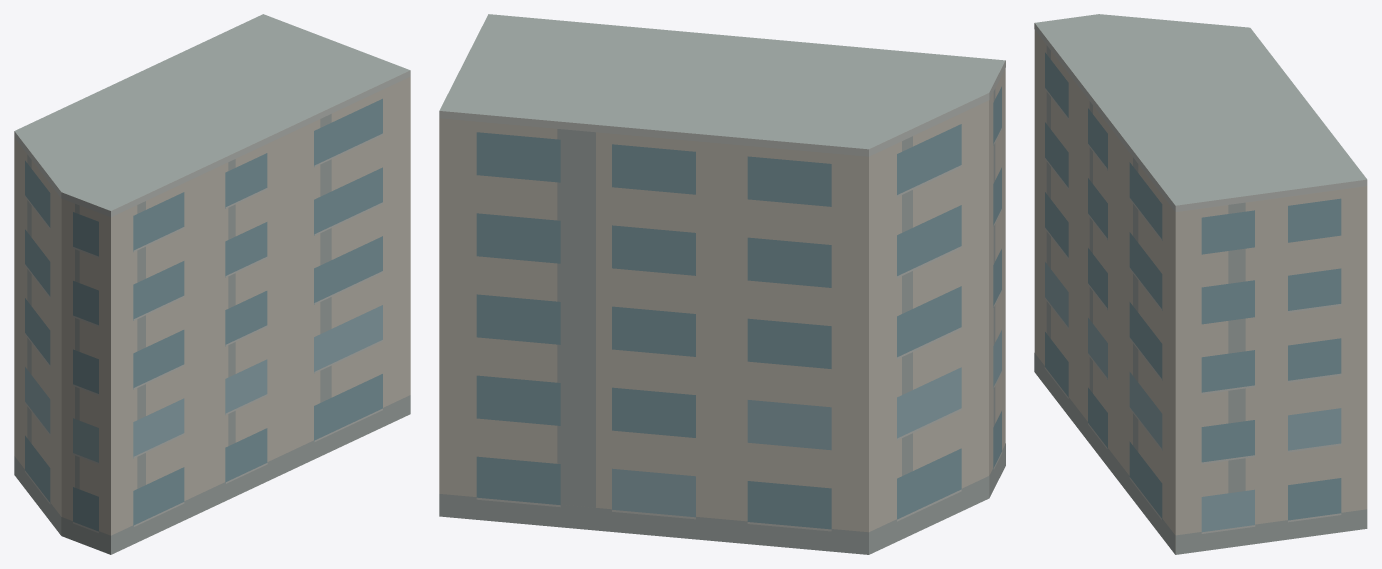
Rendered from survey-upis-32864774.glb.
The picture shows the model from 3 angles, left to right: view 1: azimuth 30°, elevation 25°; view 2: azimuth 150°, elevation 25°; view 3: azimuth 270°, elevation 25°; orthographic projection. The views are drawn at different scales.
Parts seen in each view (by area): view 1: survey-upis-32864774.tmp; view 2: survey-upis-32864774.tmp; view 3: survey-upis-32864774.tmp.
Part boxes in pixels (bbox=[...]): survey-upis-32864774.tmp: bbox=[14, 14, 410, 554]; survey-upis-32864774.tmp: bbox=[439, 14, 1005, 554]; survey-upis-32864774.tmp: bbox=[1034, 14, 1367, 554].
Size of the model in its own units: 15.67 by 13.3 by 11.5.
